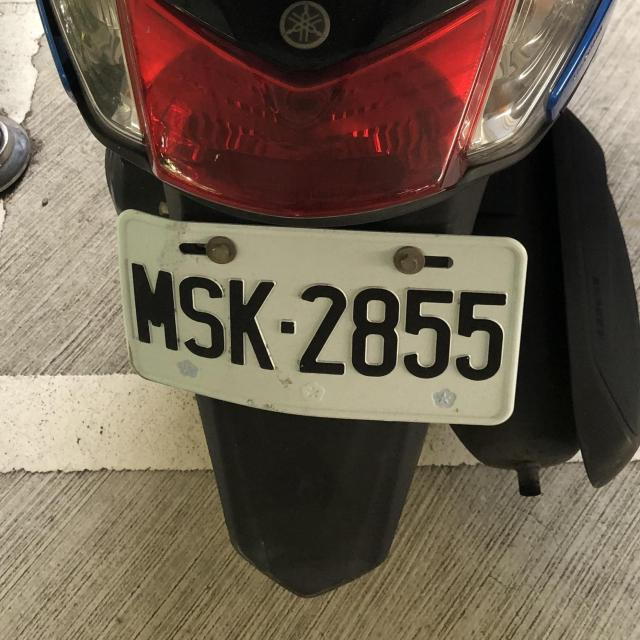W: (104, 204, 534, 430)
